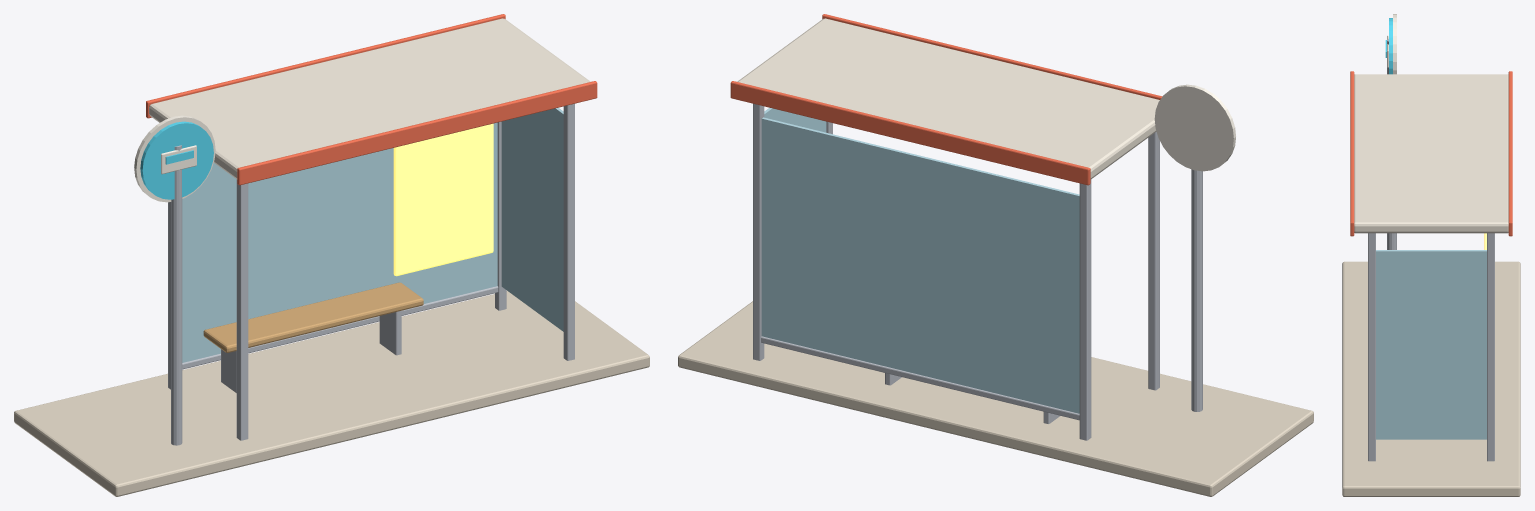
Rendered from bus_stop.glb.
The picture shows the model from 3 angles, left to right: view 1: azimuth 30°, elevation 25°; view 2: azimuth 150°, elevation 25°; view 3: azimuth 270°, elevation 25°; orthographic projection. The views are drawn at different scales.
Parts seen in each view (by area): view 1: curb, back, roof, ad, side, roofEdge, seat, sign, post-1.65-0.6, pole, post1.65-0.6, roofCap (+4 smaller); view 2: back, curb, roof, roofCap, signRim, post-1.650.6, post-1.65-0.6, pole, post1.650.6, backRail, roofEdge, side; view 3: roof, side, curb, post1.65-0.6, post1.650.6, roofEdge, roofCap, signRim, sign.
Boxes of the visible parts, box(x1,y1,x2,y2) form: curb: box(14, 291, 649, 496); back: box(182, 122, 497, 362); roof: box(149, 18, 590, 179); ad: box(393, 123, 493, 276); side: box(501, 107, 563, 331); roofEdge: box(237, 81, 597, 185); seat: box(203, 282, 423, 352); sign: box(140, 121, 213, 199); post-1.65-0.6: box(236, 179, 248, 440); pole: box(171, 145, 182, 445); post1.65-0.6: box(563, 103, 574, 360); roofCap: box(146, 14, 505, 118); back: box(761, 117, 1079, 413); curb: box(678, 301, 1313, 496); roof: box(737, 18, 1159, 179); roofCap: box(730, 81, 1090, 185); signRim: box(1154, 84, 1235, 171); post-1.650.6: box(1079, 179, 1091, 440); post-1.65-0.6: box(1148, 132, 1159, 390); pole: box(1191, 169, 1202, 411); post1.650.6: box(753, 103, 764, 360); backRail: box(761, 336, 1079, 420); roofEdge: box(822, 14, 1162, 99); side: box(764, 107, 826, 132); roof: box(1354, 74, 1508, 233); side: box(1376, 250, 1486, 439); curb: box(1342, 261, 1520, 496); post1.65-0.6: box(1368, 233, 1375, 461); post1.650.6: box(1487, 233, 1494, 461); roofEdge: box(1350, 71, 1354, 236); roofCap: box(1508, 71, 1512, 236); signRim: box(1393, 14, 1396, 74); sign: box(1389, 18, 1392, 74).
Size of the model in its own units: 5.4 by 3.25 by 1.8.
